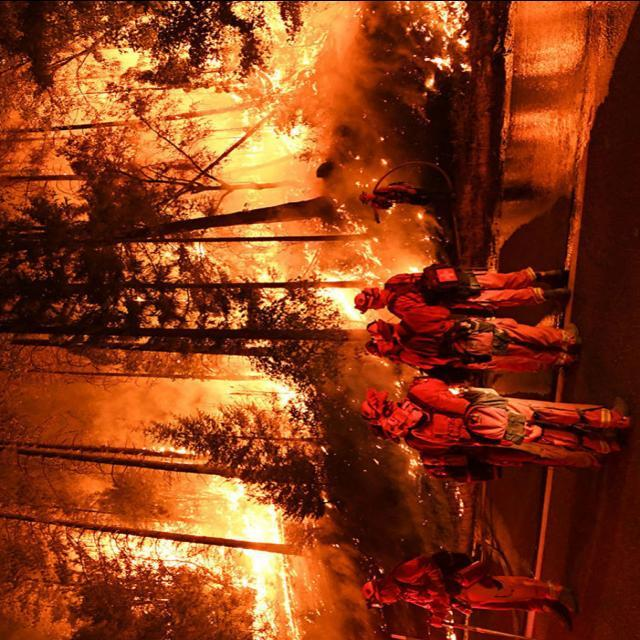Fire: (144, 0, 466, 326), (90, 368, 314, 624)
